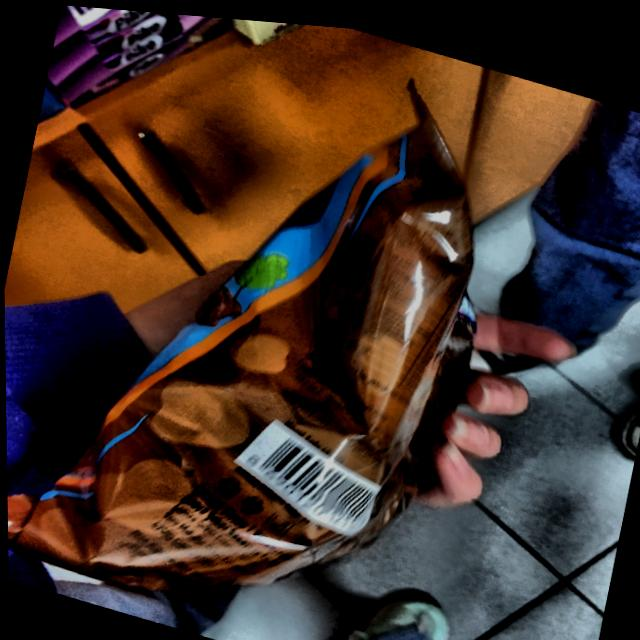Plastic: (6, 85, 484, 605)
